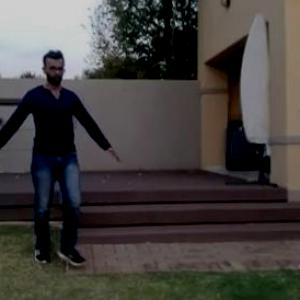land: (0, 48, 123, 266)
